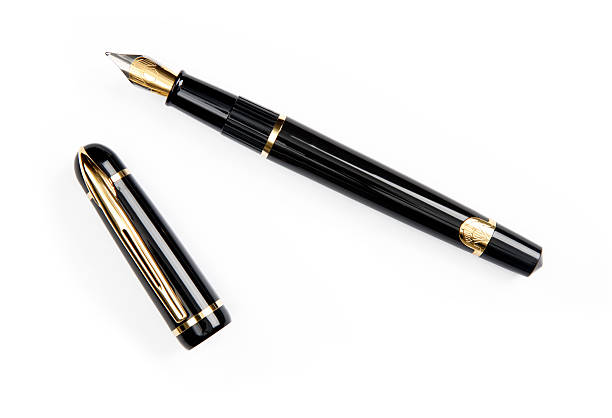pen: (68, 48, 553, 367)
